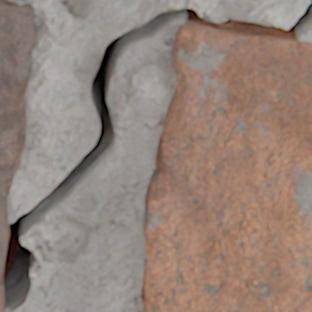brick: (141, 23, 311, 311), (0, 0, 36, 311)
crack: (2, 0, 311, 310)
